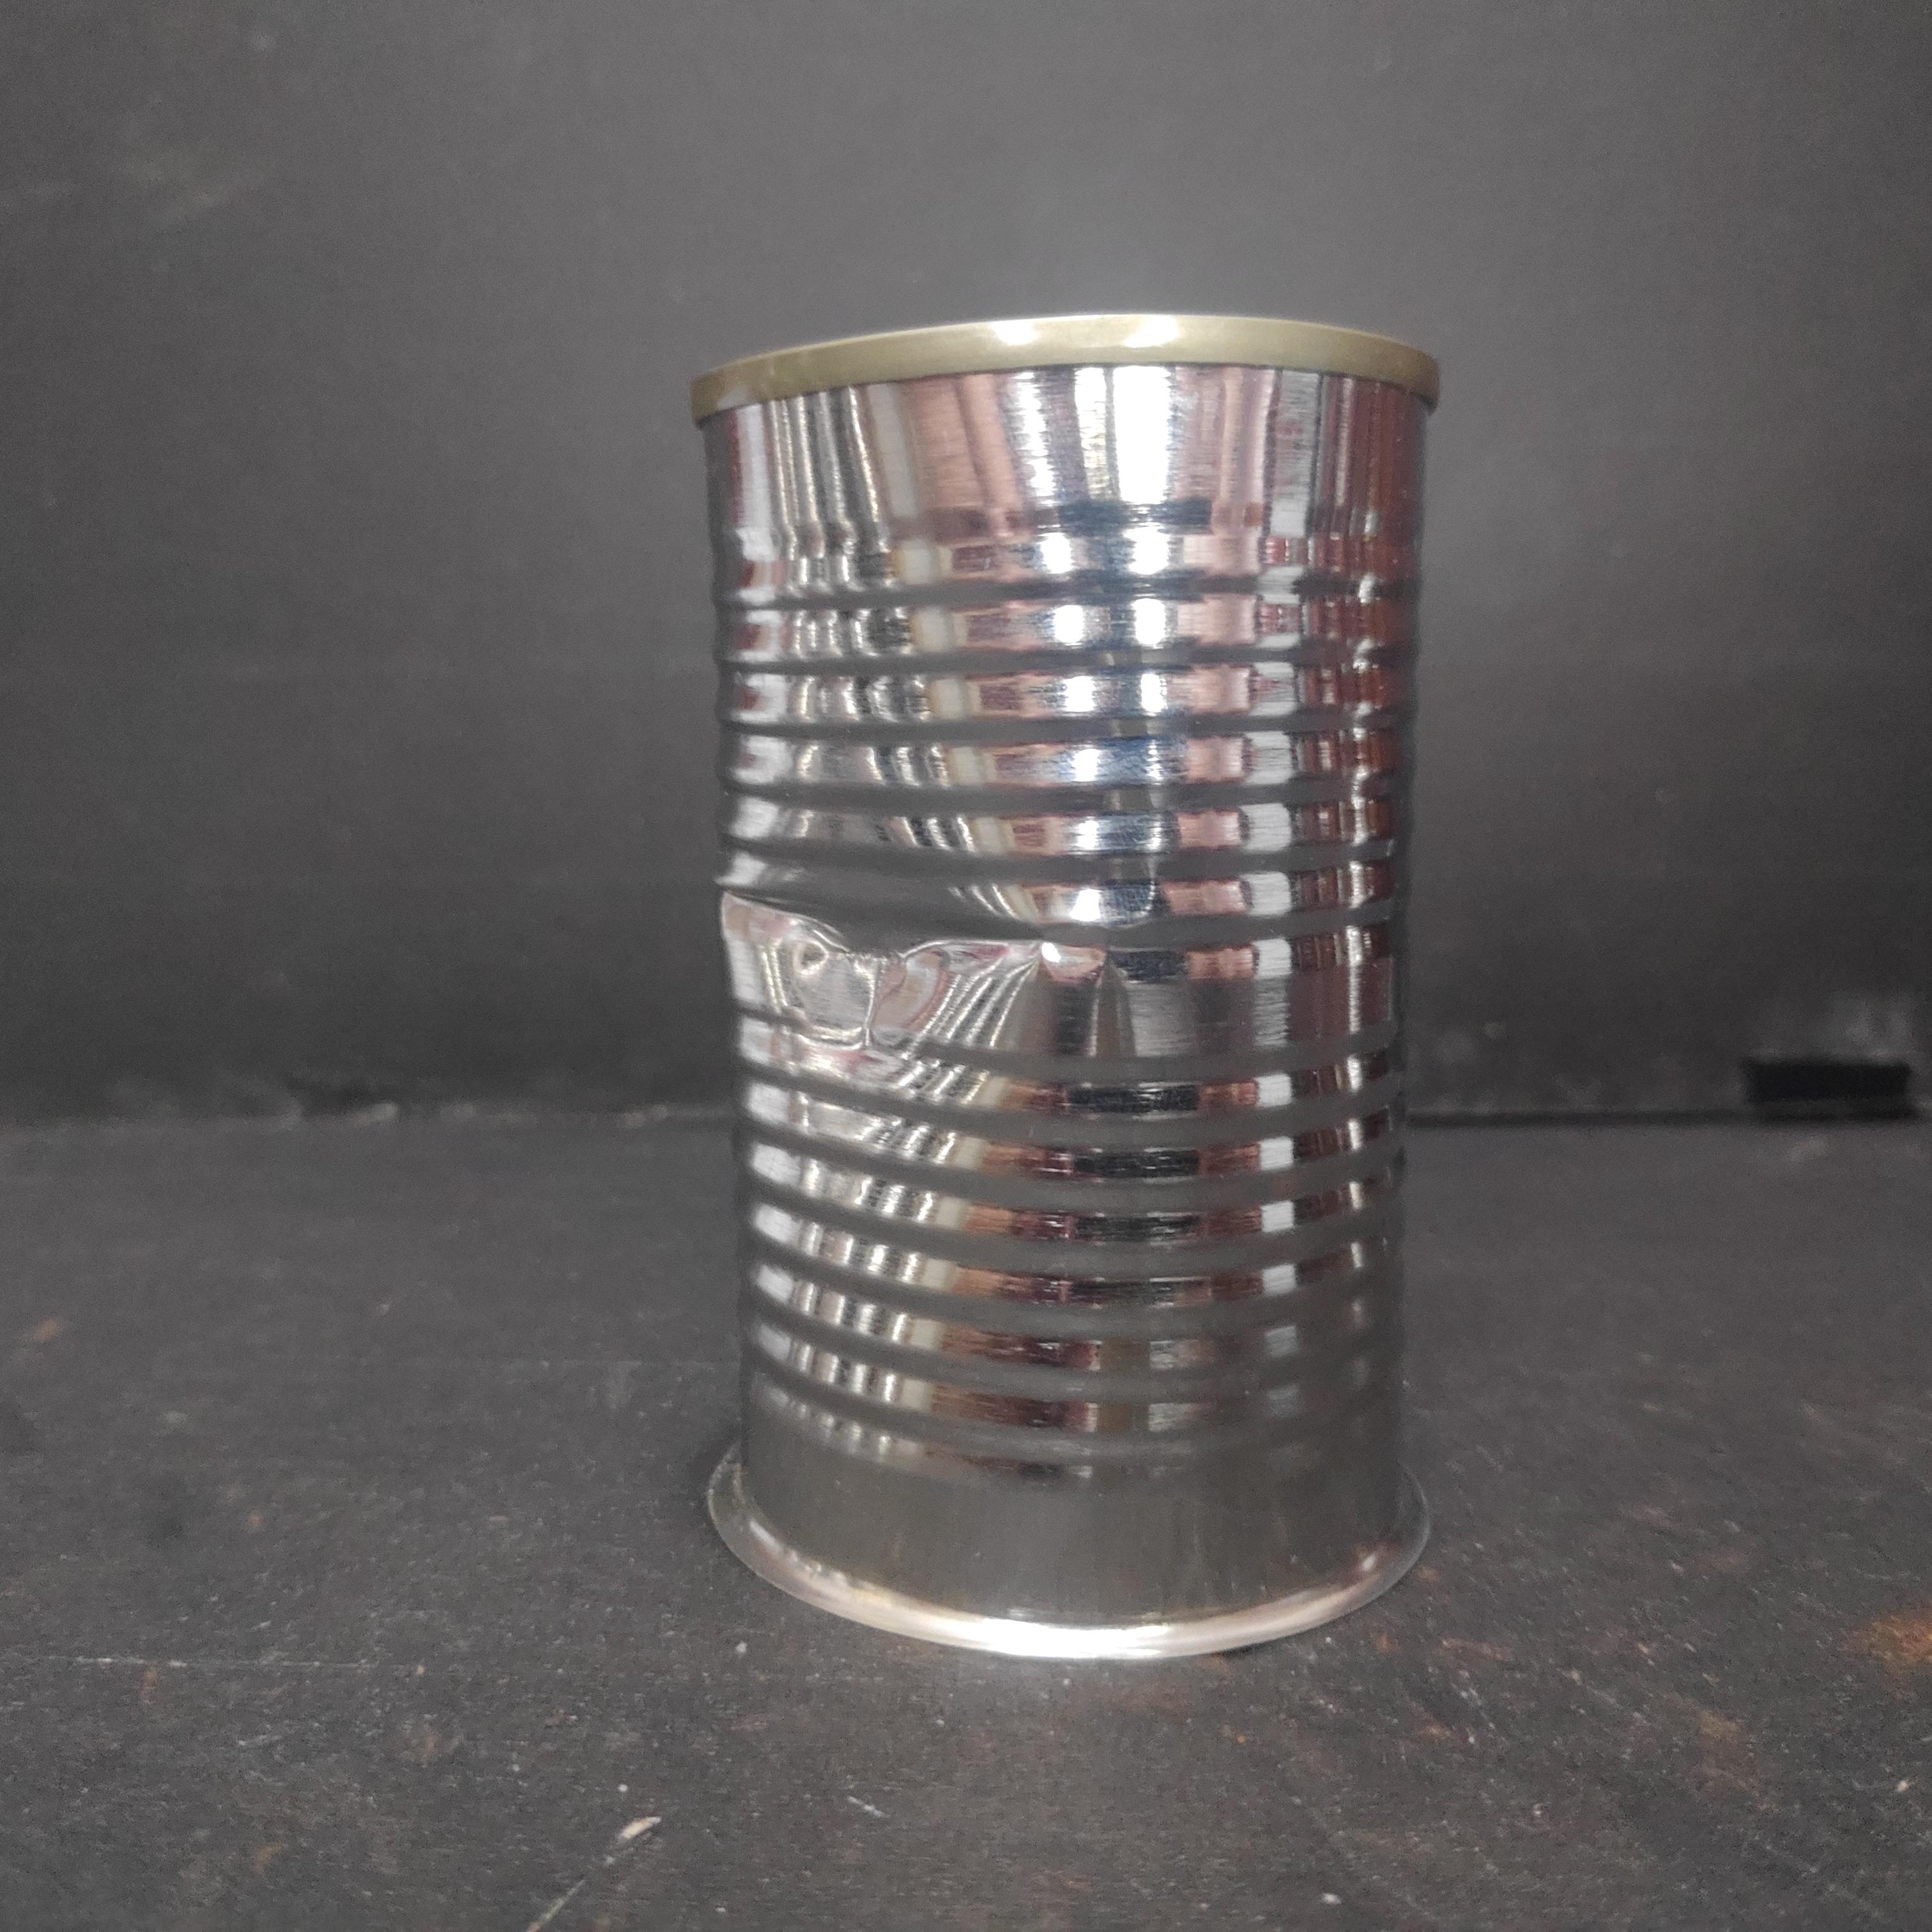Minor Defect: (678, 297, 1456, 1675)
